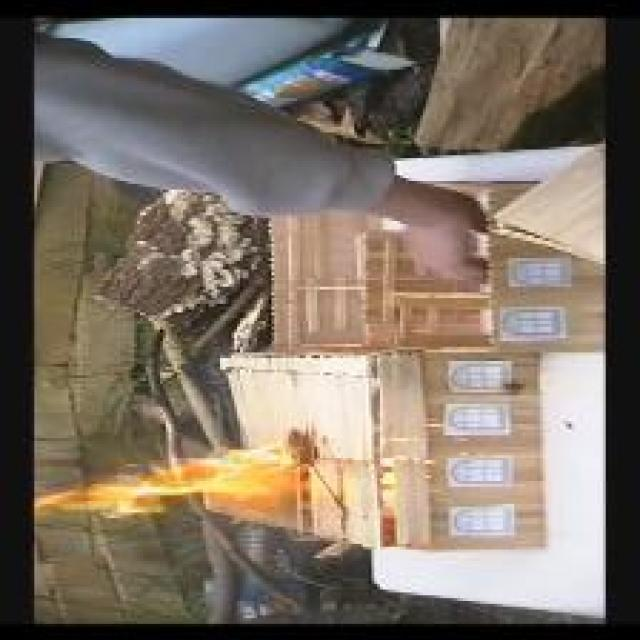Fire: (37, 448, 309, 518)
